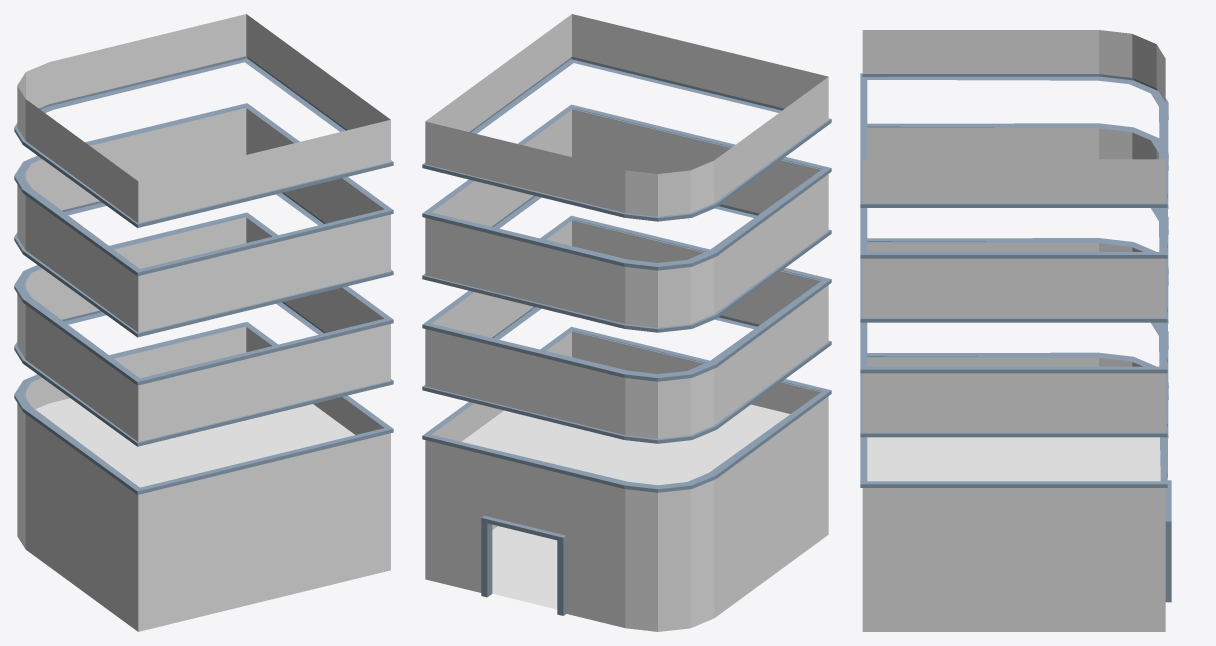
Rendered from Bld_O_high_L2_A.fbx.
The picture shows the model from 3 angles, left to right: view 1: azimuth 30°, elevation 25°; view 2: azimuth 150°, elevation 25°; view 3: azimuth 270°, elevation 25°; orthographic projection. The views are drawn at different scales.
Parts seen in each view (by area): view 1: Bld_O_high_L2_A_LOD0; view 2: Bld_O_high_L2_A_LOD0; view 3: Bld_O_high_L2_A_LOD0.
Part boxes in pixels (x1,y1,x2,y2): Bld_O_high_L2_A_LOD0: [14, 14, 393, 631]; Bld_O_high_L2_A_LOD0: [422, 14, 831, 631]; Bld_O_high_L2_A_LOD0: [860, 30, 1171, 631].
Size of what is drawn, in the model's own units: 1380 by 2447 by 1513.
Materials: 1 (1 with a texture image).
